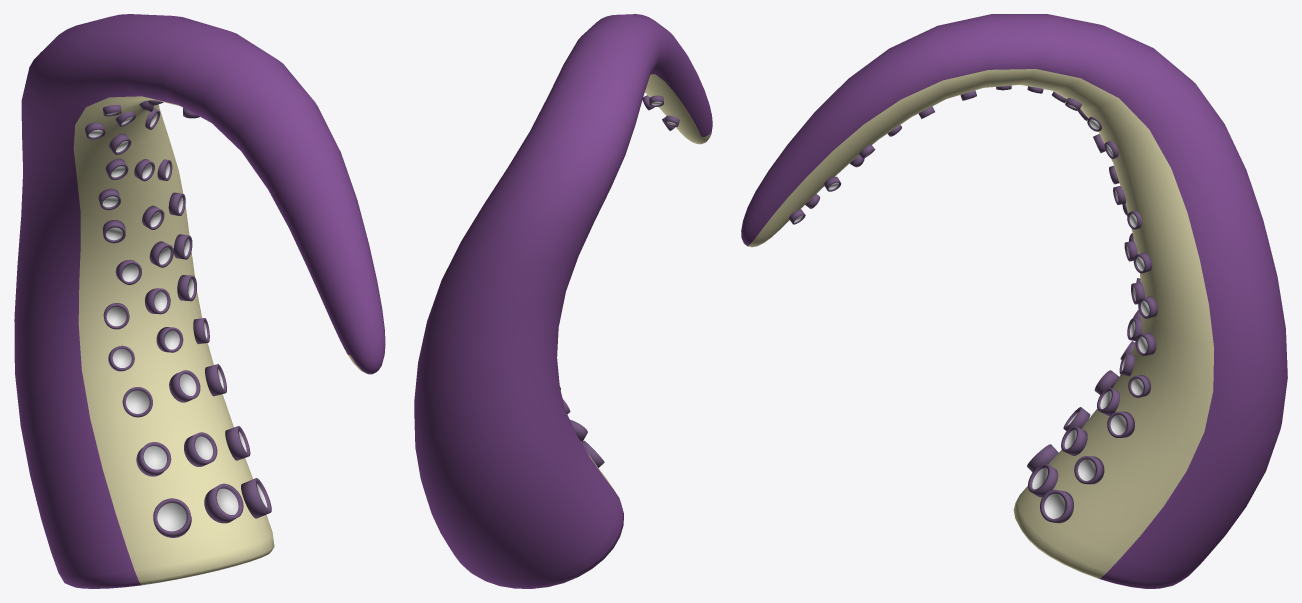
Rendered from TENTACULO.fbx.
3 renders of one model, left to right at view 1: azimuth 30°, elevation 25°; view 2: azimuth 150°, elevation 25°; view 3: azimuth 270°, elevation 25°, orthographic. The views are drawn at different scales.
Visible parts, largest first — view 1: Circle.011; view 2: Circle.011; view 3: Circle.011.
Boxes of the visible parts, x1,y1,x2,y2 form: Circle.011: (14,14,385,588); Circle.011: (414,14,712,588); Circle.011: (741,14,1287,588).
Bounding box in the file's own units: 84.87 × 244 × 225.
